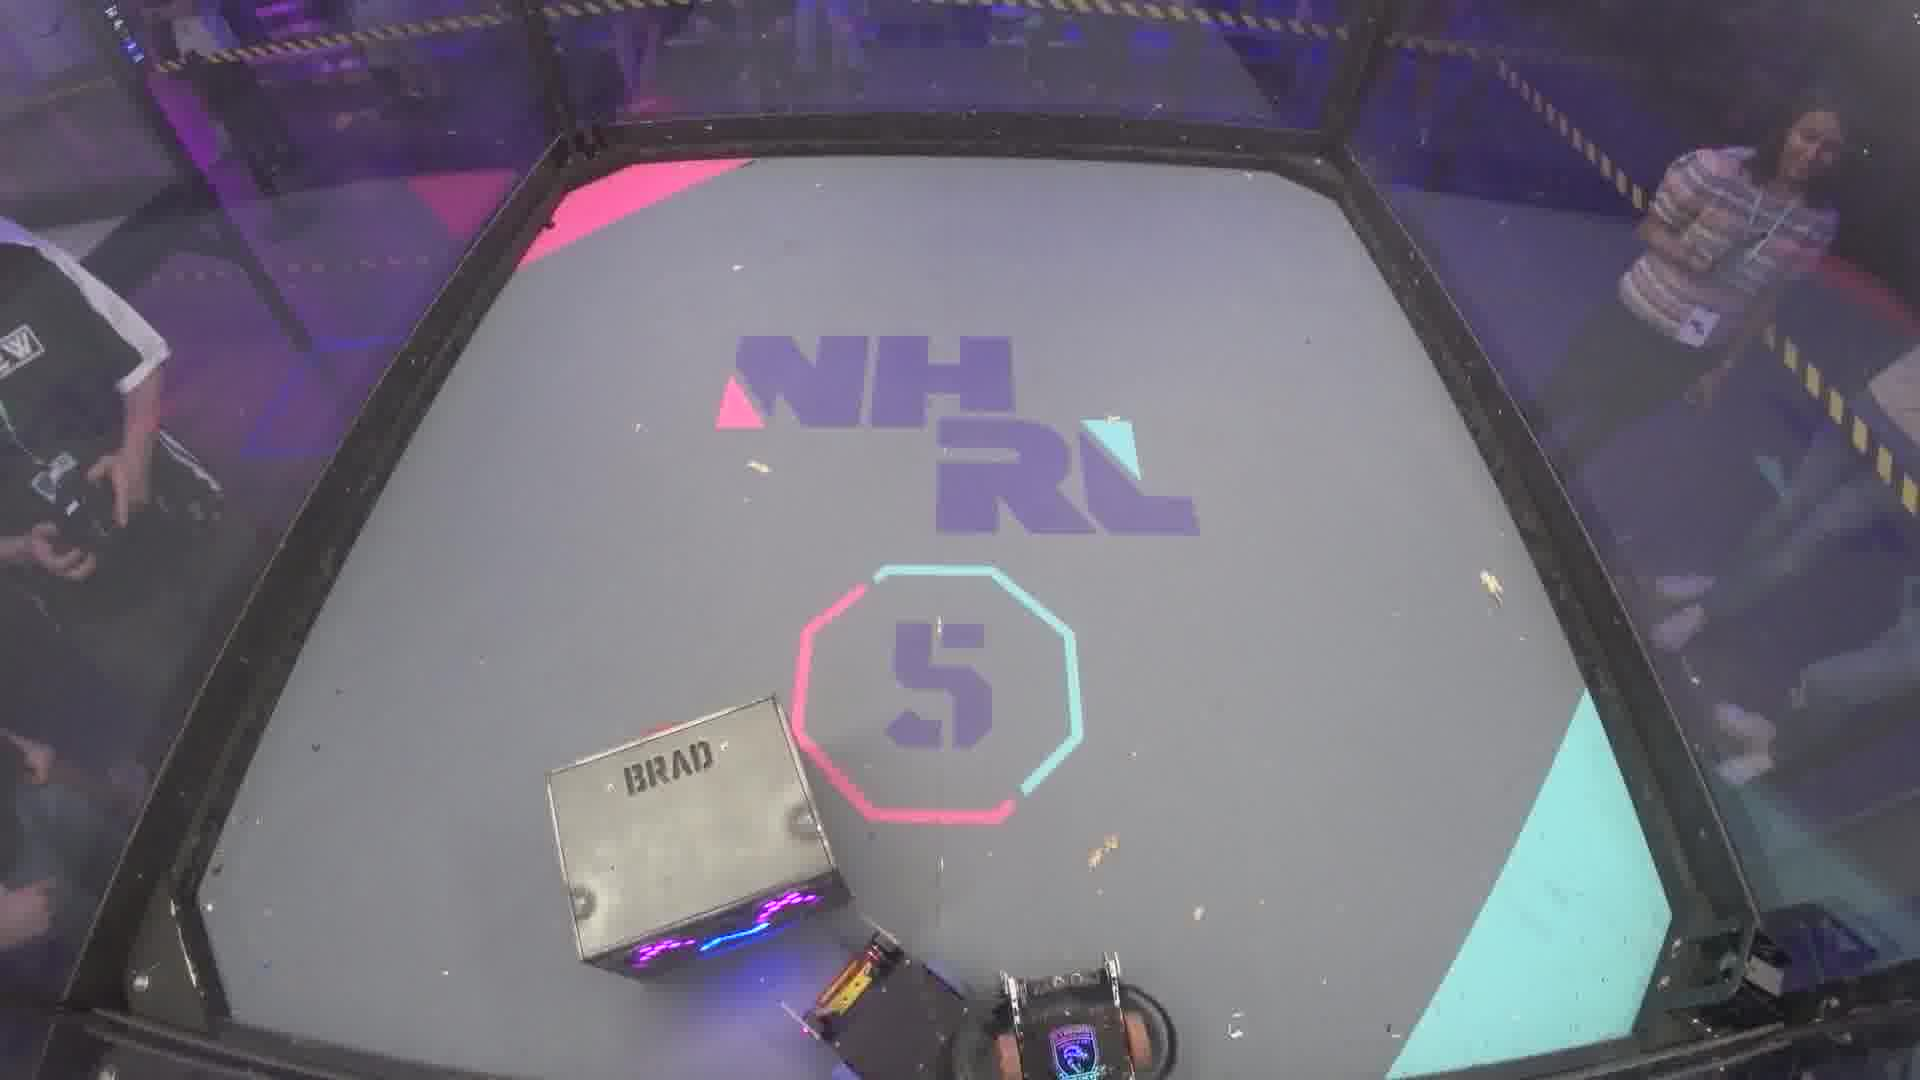combatbot: (781, 909, 968, 1079), (981, 952, 1180, 1077)
housebot: (543, 688, 843, 972)
